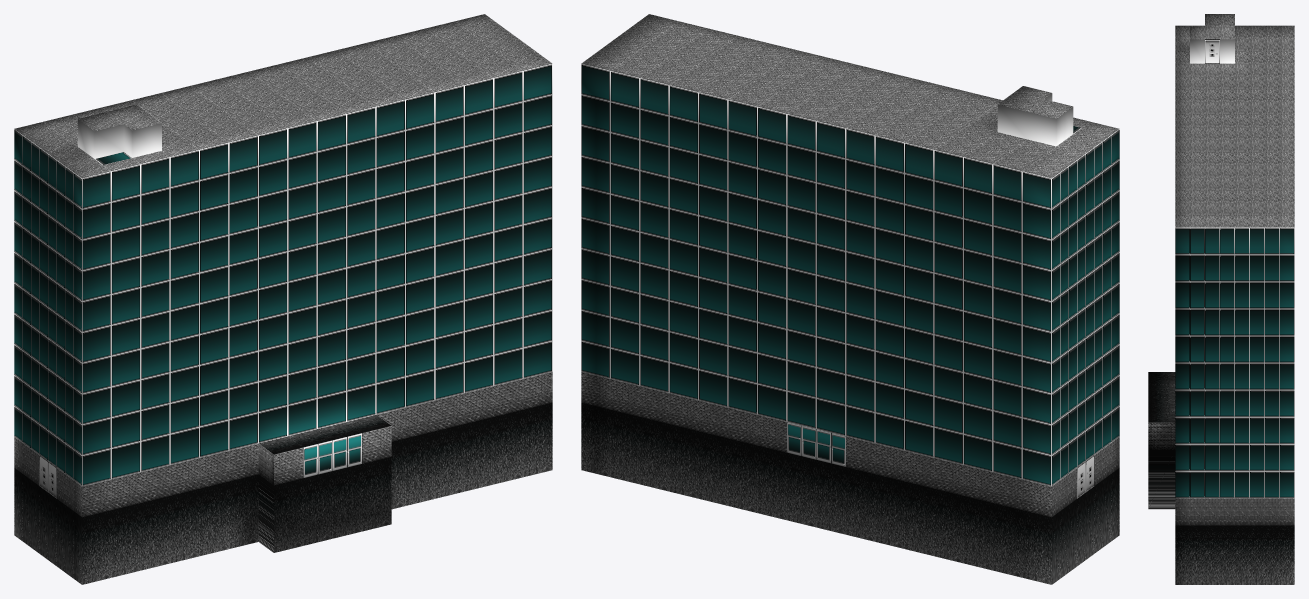
Rendered from kantoor_mod1_2a.fbx.
3 views of the same model, side by side, from view 1: azimuth 30°, elevation 25°; view 2: azimuth 150°, elevation 25°; view 3: azimuth 270°, elevation 25° (orthographic). The views are drawn at different scales.
Visible parts, largest first — view 1: kantoor_mod1_2a; view 2: kantoor_mod1_2a; view 3: kantoor_mod1_2a.
Part boxes in pixels (bbox=[...]): kantoor_mod1_2a: bbox=[14, 14, 552, 584]; kantoor_mod1_2a: bbox=[581, 14, 1119, 584]; kantoor_mod1_2a: bbox=[1148, 14, 1294, 584].
Size of the model in its own units: 7200 by 6345 by 2205.
